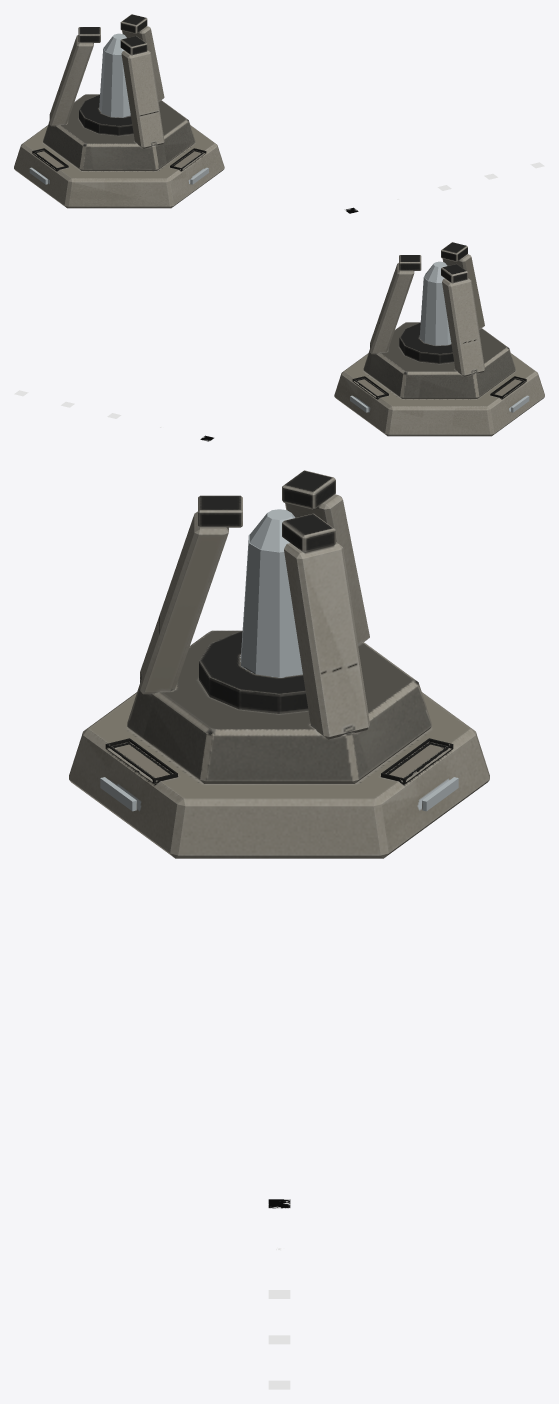
File: shield_fx.fbx
3 renders of one model, top to bottom at view 1: azimuth 30°, elevation 25°; view 2: azimuth 150°, elevation 25°; view 3: azimuth 270°, elevation 25°, orthographic. The views are drawn at different scales.
Parts seen in each view (by area): view 1: emitter; view 2: emitter; view 3: emitter.
Boxes of the visible parts, x1=… form: emitter: x1=14, y1=14, x2=224, y2=208; emitter: x1=334, y1=242, x2=544, y2=436; emitter: x1=69, y1=470, x2=489, y2=858.
Size of the model in its own units: 1086 by 487 by 392.
Materials: 7 (6 with a texture image).
